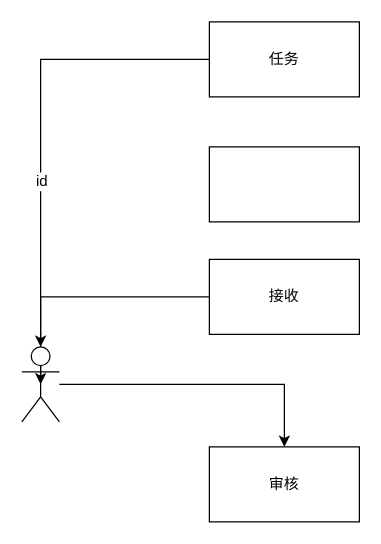
The diagram is 381 pixels wide and 544 high, and some of its shapes have lost their labels. Each missing label, with the centre of its shape:
"Actor" belongs at (x=40, y=384).
"创建" belongs at (x=283, y=184).
